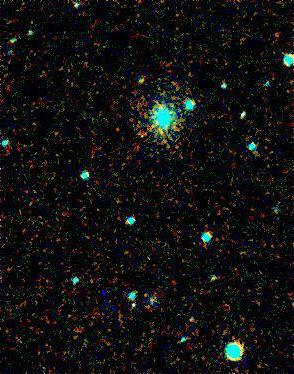star: (120, 289, 150, 319)
